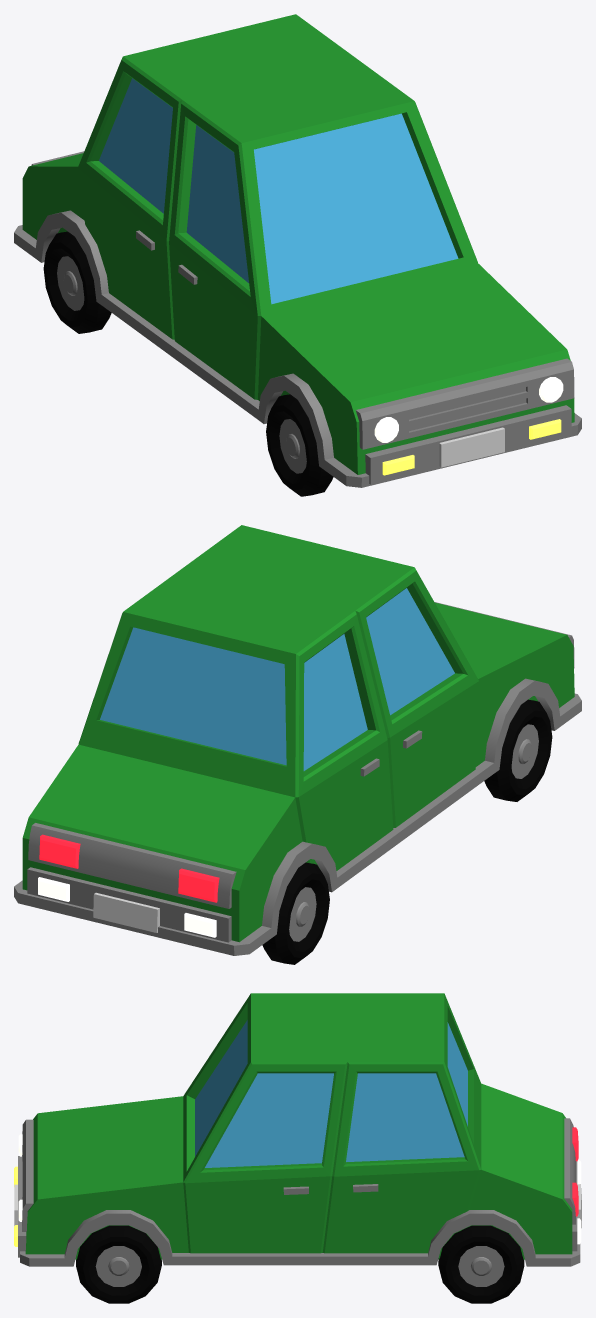
File: Carro-Verde.fbx
3 renders of one model, top to bottom at view 1: azimuth 30°, elevation 25°; view 2: azimuth 150°, elevation 25°; view 3: azimuth 270°, elevation 25°, orthographic. The views are drawn at different scales.
Visible parts, largest first — view 1: Cube, Cylinder.001, Cylinder, Cube.002, Cube.001, Cube.003, Cylinder.002, Cube.004; view 2: Cube, Cylinder.001, Cylinder, Cube.009, Cube.006, Cube.010, Cube.007, Cube.008; view 3: Cube, Cylinder, Cylinder.001, Cube.002, Cube.009, Cube.005, Cube.001.
Boxes of the visible parts, x1,y1,x2,y2 form: Cube: (22,14,574,474); Cylinder.001: (14,210,581,487); Cylinder: (43,231,333,496); Cube.002: (355,358,574,449); Cube.001: (365,405,571,484); Cube.003: (439,427,504,467); Cylinder.002: (374,377,563,442); Cube.004: (382,419,561,475); Cube: (22,525,574,942); Cylinder.001: (14,678,581,955); Cylinder: (262,699,552,964); Cube.009: (28,823,236,908); Cube.006: (27,867,231,942); Cube.010: (39,834,219,902); Cube.007: (93,892,159,932); Cube.008: (38,877,216,937); Cube: (25,993,572,1259); Cylinder: (76,1225,524,1303); Cylinder.001: (20,1210,580,1266); Cube.002: (22,1119,33,1231); Cube.009: (564,1118,575,1224); Cube.005: (283,1184,378,1194); Cube.001: (18,1156,26,1257).
Size of the model in its own units: 360 by 402 by 896.
